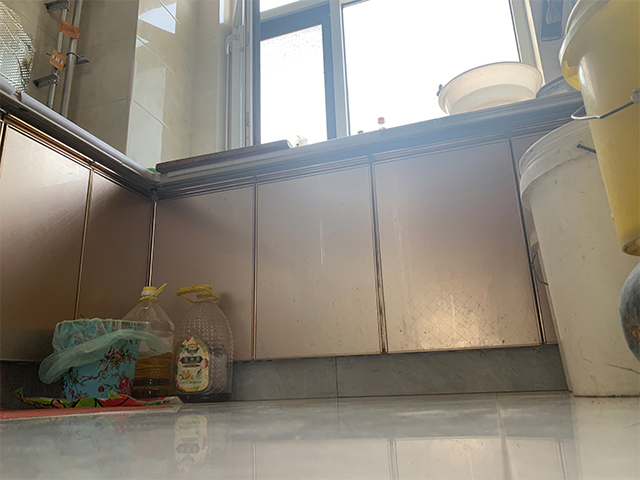cabinet: (160, 117, 517, 396)
carpet: (1, 403, 173, 420)
trashcan: (52, 316, 149, 399)
